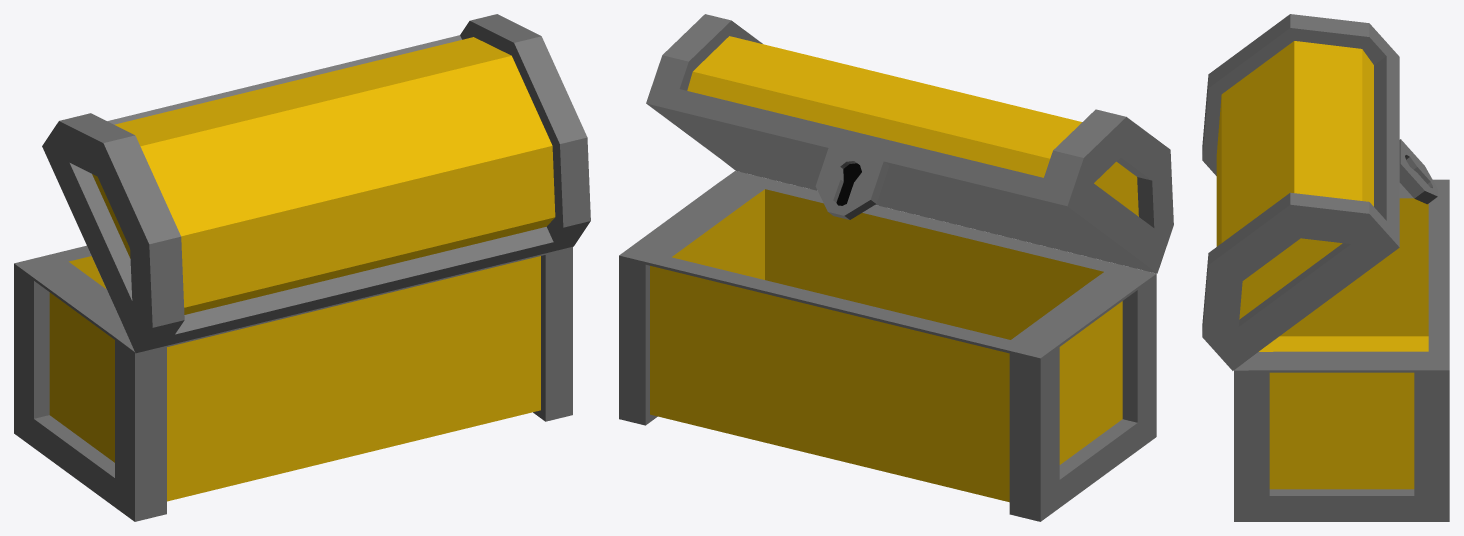
Rendered from Chest_Opened.fbx.
3 renders of one model, left to right at view 1: azimuth 30°, elevation 25°; view 2: azimuth 150°, elevation 25°; view 3: azimuth 270°, elevation 25°, orthographic. The views are drawn at different scales.
Parts seen in each view (by area): view 1: Chest_Open; view 2: Chest_Open; view 3: Chest_Open.
Boxes of the visible parts, x1,y1,x2,y2 form: Chest_Open: (14,14,590,521); Chest_Open: (619,14,1173,521); Chest_Open: (1202,14,1449,521).
Size of the model in its own units: 140 by 109 by 76.73.
